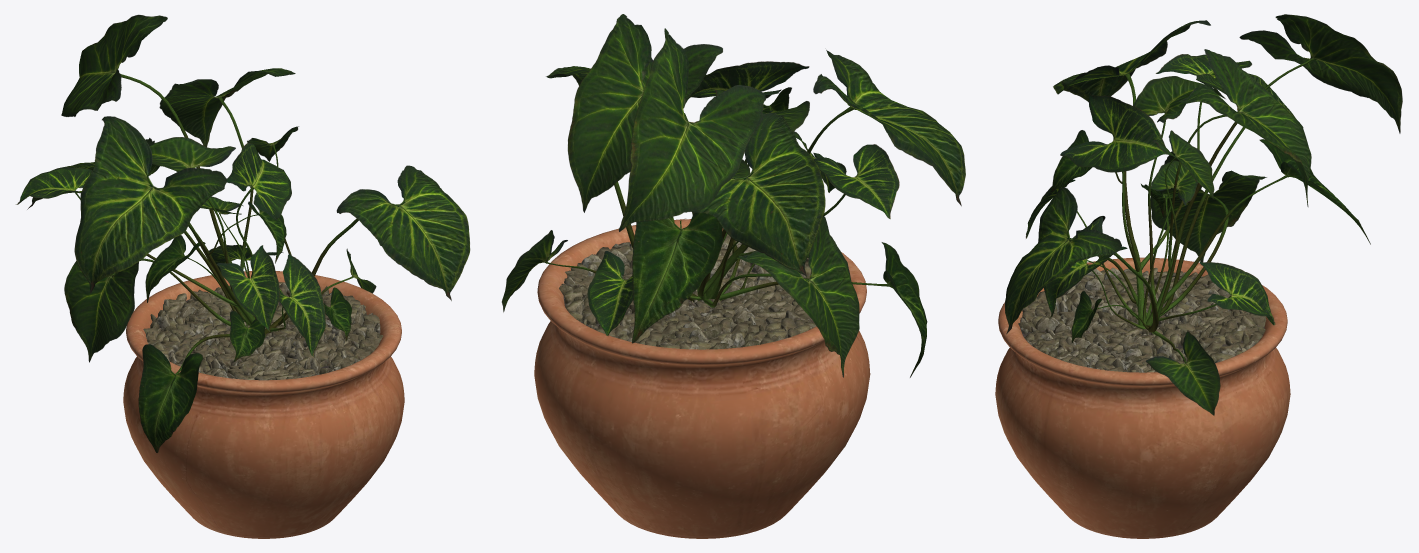
File: plantpot.glb
3 views of the same model, side by side, from view 1: azimuth 30°, elevation 25°; view 2: azimuth 150°, elevation 25°; view 3: azimuth 270°, elevation 25° (orthographic). The views are drawn at different scales.
Visible parts, largest first — view 1: potted_plant_02_pot.122; view 2: potted_plant_02_pot.122; view 3: potted_plant_02_pot.122.
Part boxes in pixels (x1,y1,x2,y2): potted_plant_02_pot.122: (16, 14, 470, 538); potted_plant_02_pot.122: (501, 14, 965, 538); potted_plant_02_pot.122: (995, 14, 1402, 538).
Bounding box in the file's own units: 0.1117 × 0.134 × 0.1048.
2 materials, 2 textured.
